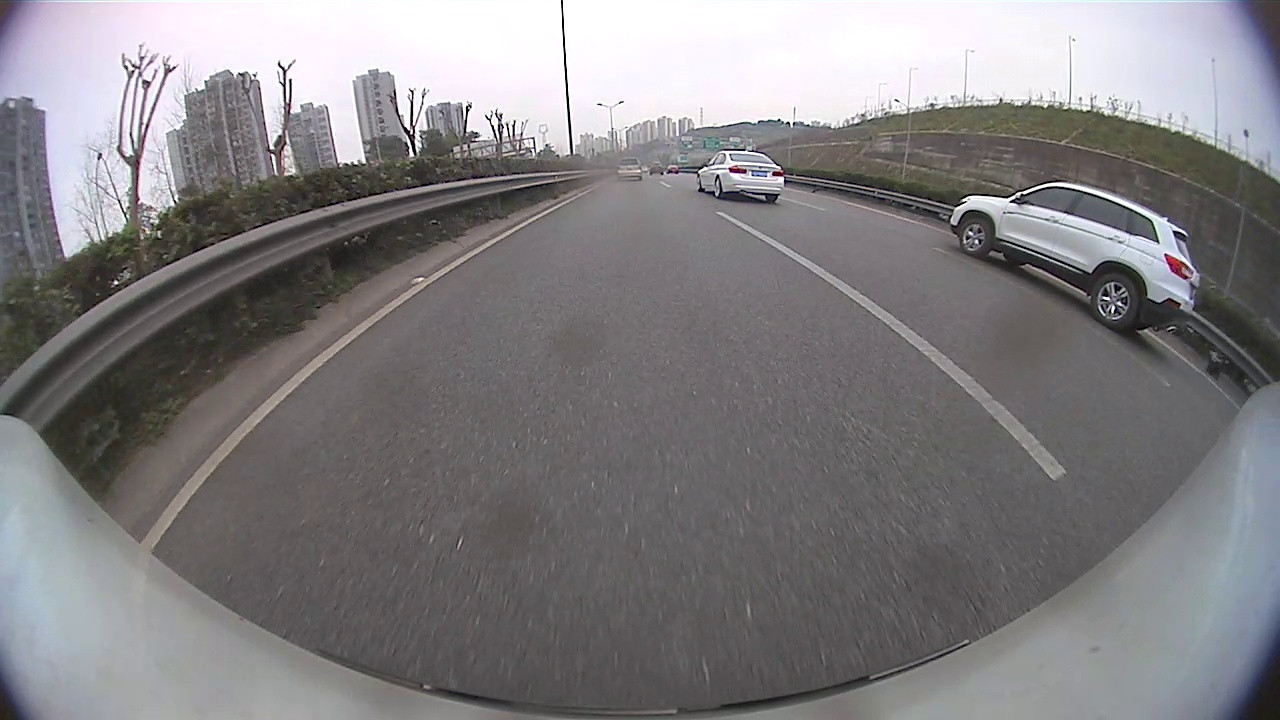car: (946, 179, 1203, 335), (694, 148, 785, 203), (613, 155, 644, 181)
front: (957, 218, 993, 258)
rear: (1090, 272, 1140, 331), (713, 179, 723, 198)
